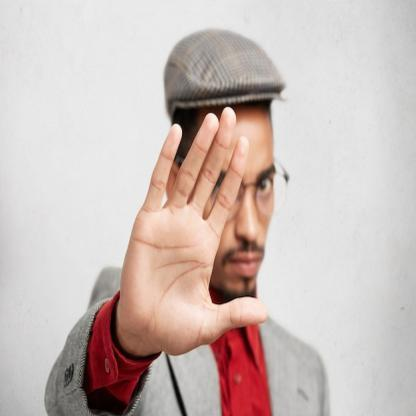stop: (124, 100, 268, 354)
